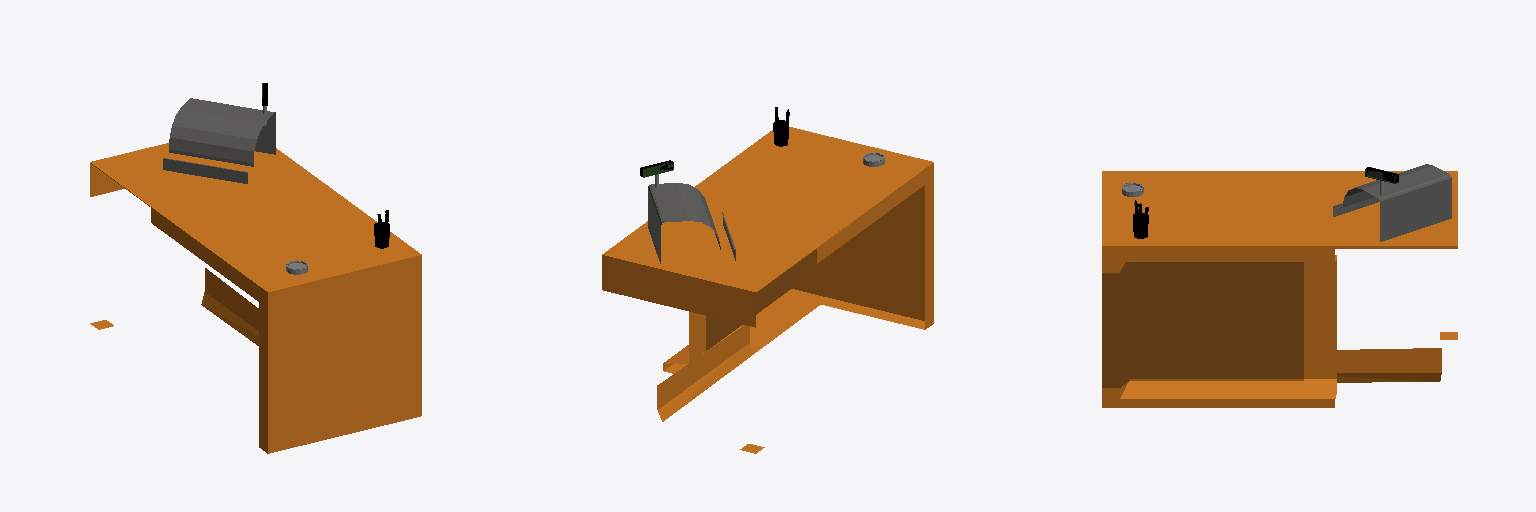
3 renders of one model, left to right at view 1: azimuth 30°, elevation 25°; view 2: azimuth 150°, elevation 25°; view 3: azimuth 270°, elevation 25°, orthographic.
Visible parts, largest first — view 1: pCube1, pCube2; view 2: pCube1, pCube2; view 3: pCube1, pCube2.
Part boxes in pixels (x1,y1,x2,y2): pCube1: (90, 143, 421, 453); pCube2: (163, 98, 275, 183); pCube1: (602, 127, 933, 453); pCube2: (648, 183, 735, 263); pCube1: (1102, 171, 1457, 407); pCube2: (1333, 164, 1451, 241).
Bounding box in the file's own units: 1 × 1.41 × 2.
6 materials, 4 textured.